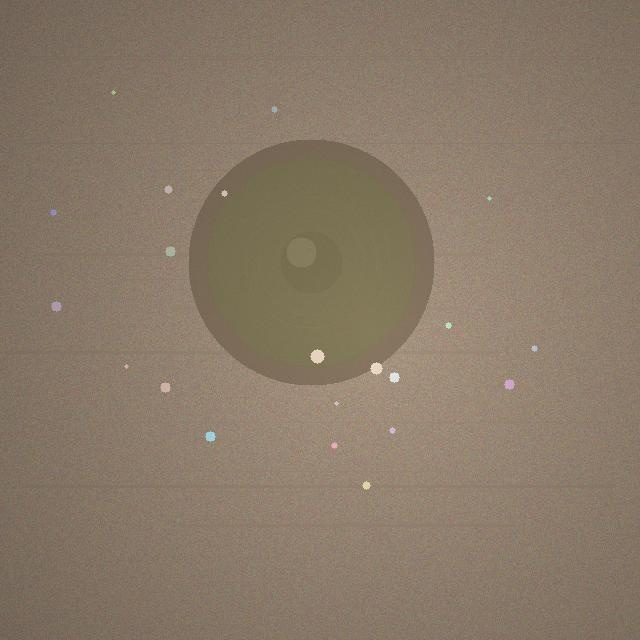overburn: (188, 139, 434, 385)
